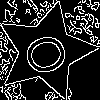O: (21, 26, 80, 80)
